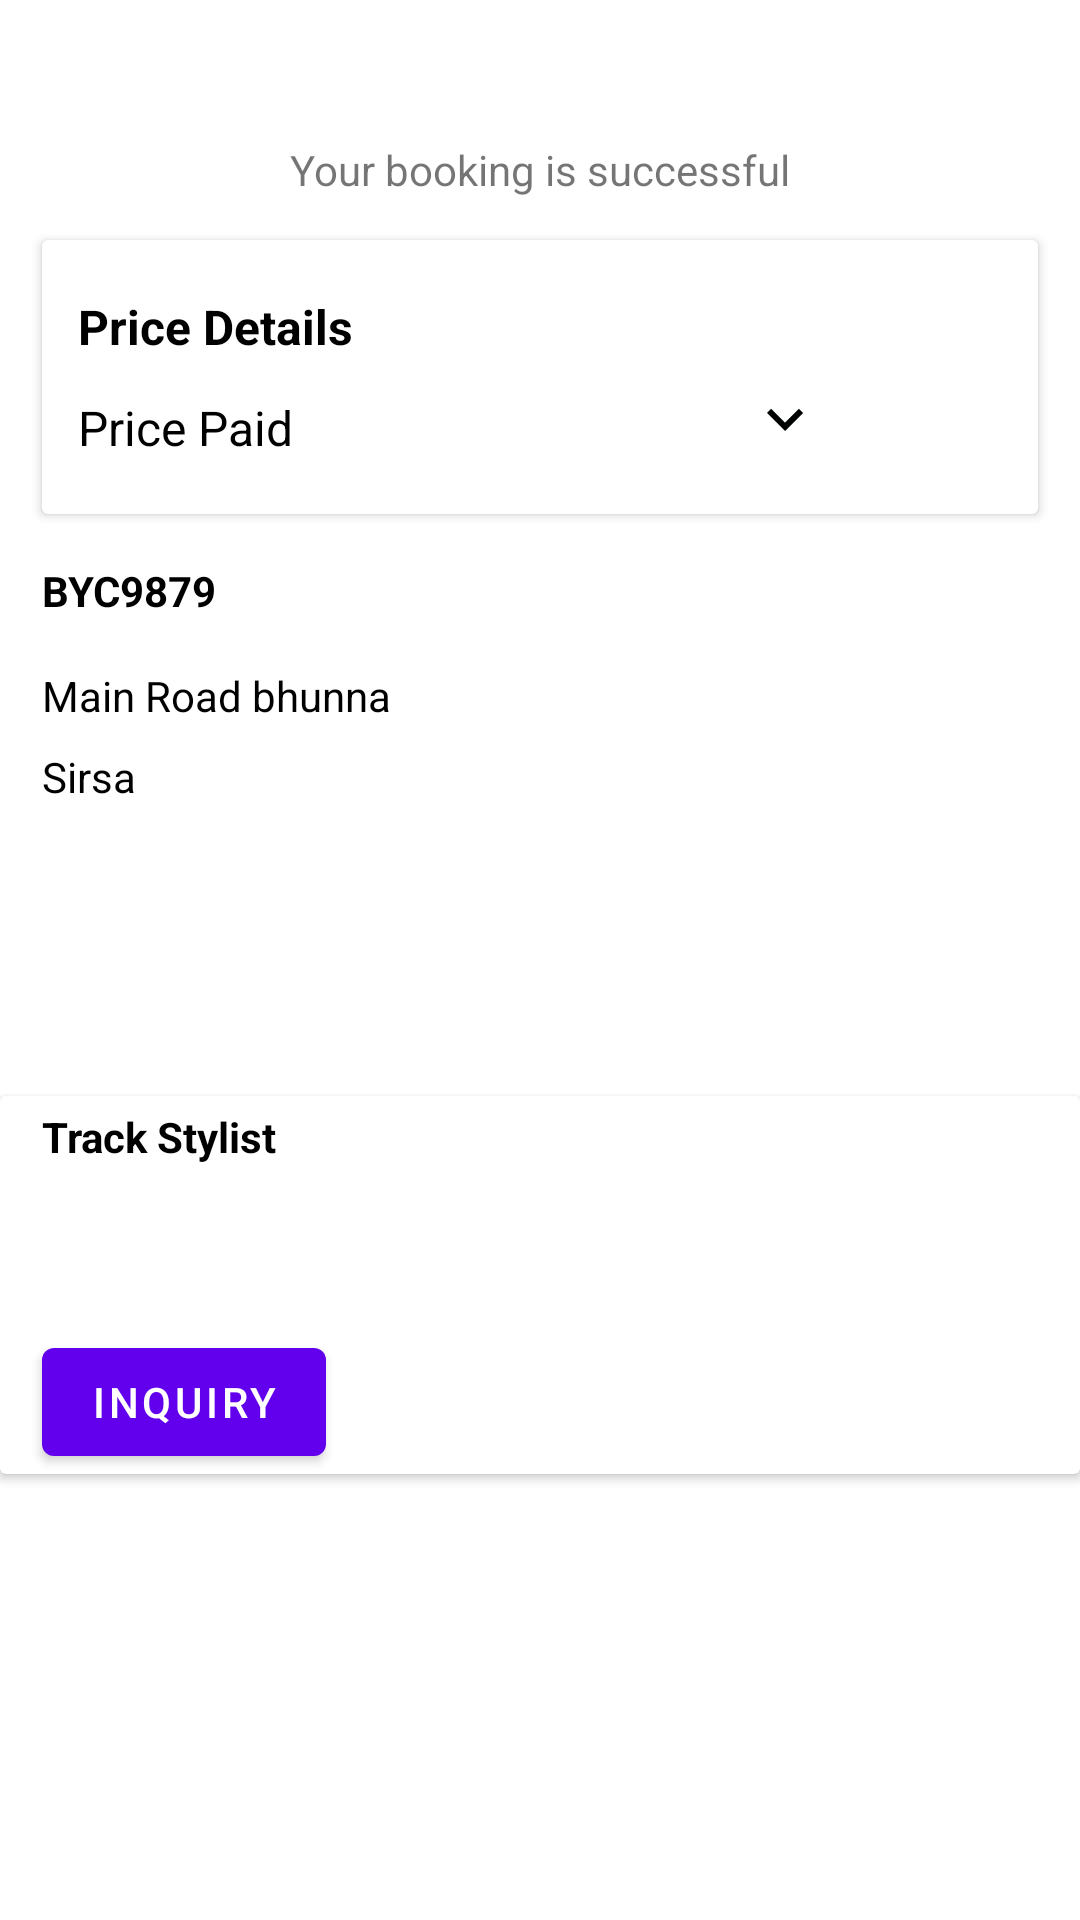

Named icons in this screenshot (1080x1920) and their bounding boxes, Rect(x1, y1, x2, y2):
keyboard arrow down: Rect(767, 409, 803, 431)
